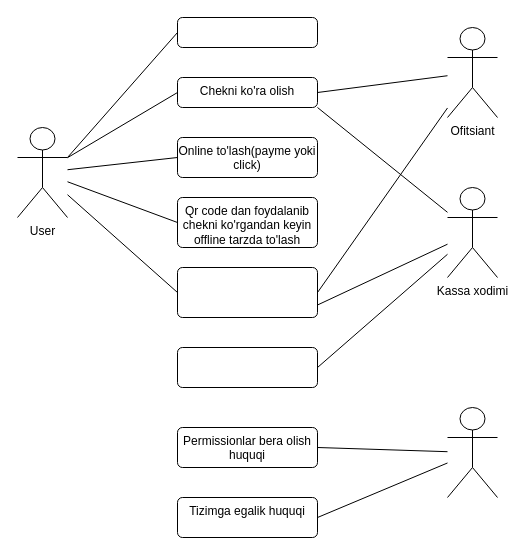
Image size: 525x555. Some labels were removed from this diagram. The shapes that lost their labels are listed below. From the top down, each one's centre as x and y in pixels, then its label:
the point at 247,32: QR code dan foydalanish
the point at 247,292: To'langan yoki to'lanmagan chekni ko'ra olish
the point at 247,367: To'lovlar tarixini ko'ra olish
the point at 472,452: Super user
